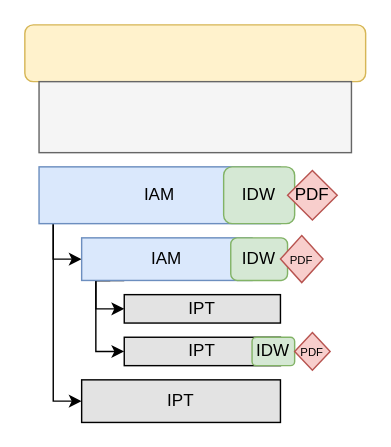
This 391x447 diagram has some shape labels left out. Each missing label, with the centre of its shape:
"DIS" goes at [194,52].
"Schriftkopf DIS-Nummer" goes at [194,116].
